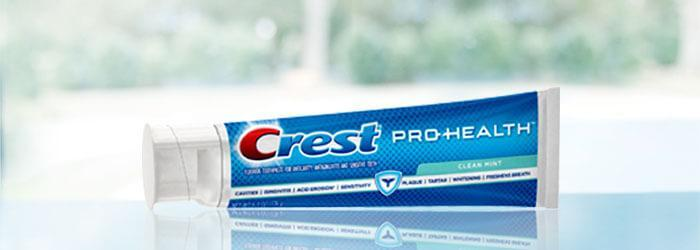toothpaste: (133, 78, 613, 229)
